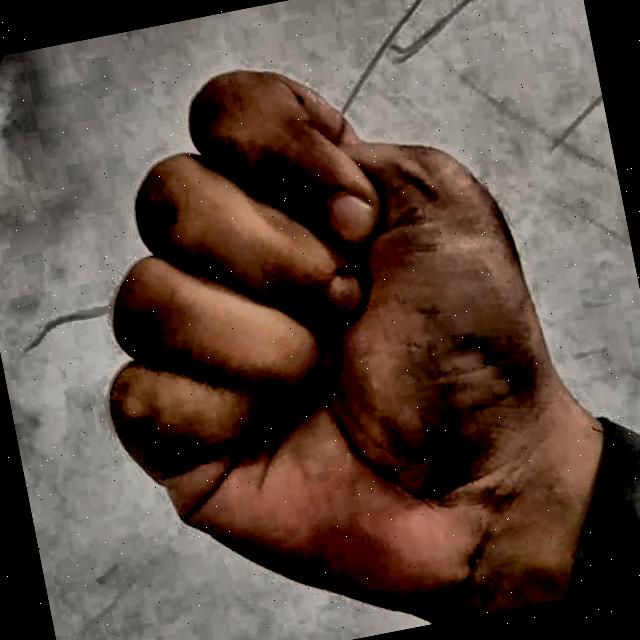To: (30, 0, 629, 640)
